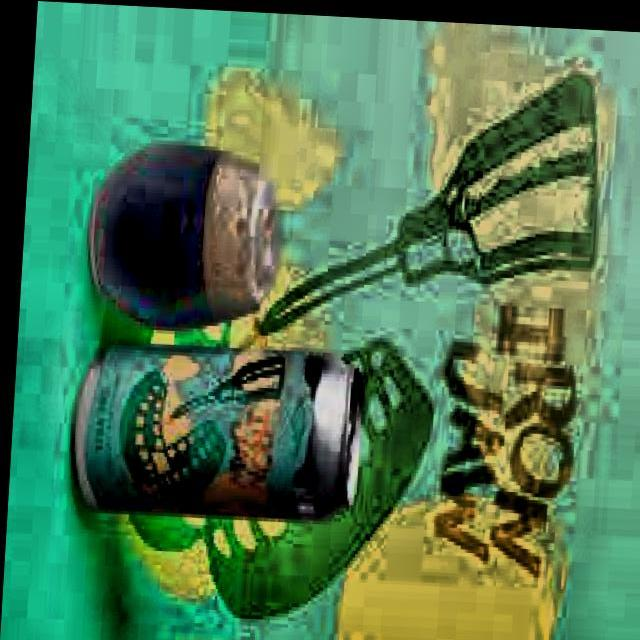Aluminum Can: (55, 331, 368, 537)
